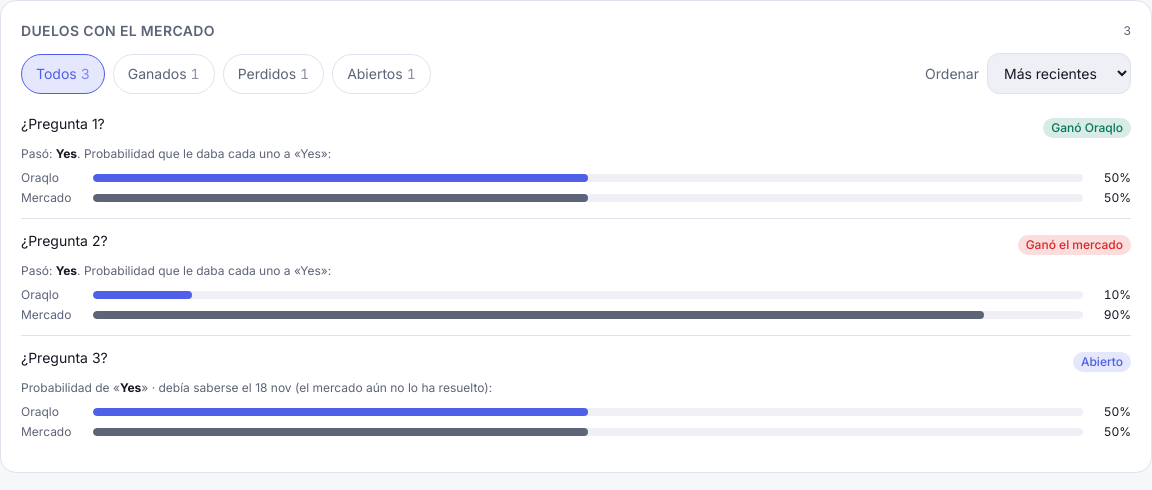
it: Duelos con el mercado › muestra cada duelo y deja filtrar
Expected: the text "Ganó Oraqlo" is shown, 1043,118 -> 1131,138
Expected: the text "Ganó el mercado" is shown, 1018,235 -> 1131,255
Click the radio button labelled "Abiertos1" at (381, 74), box 332,54 -> 431,94
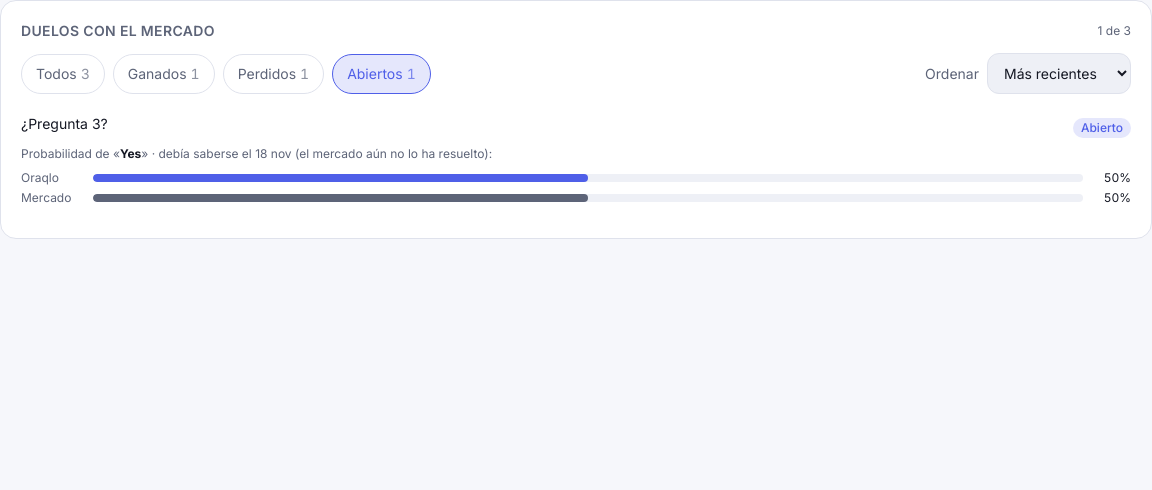
Expected: the text "¿Pregunta 3?" is shown, 21,114 -> 108,134
Expected: the text "Ganó Oraqlo" is gone
